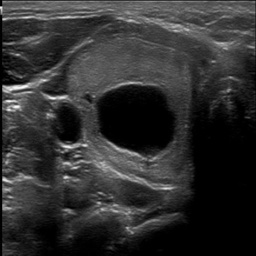mass: (93, 81, 173, 152)
